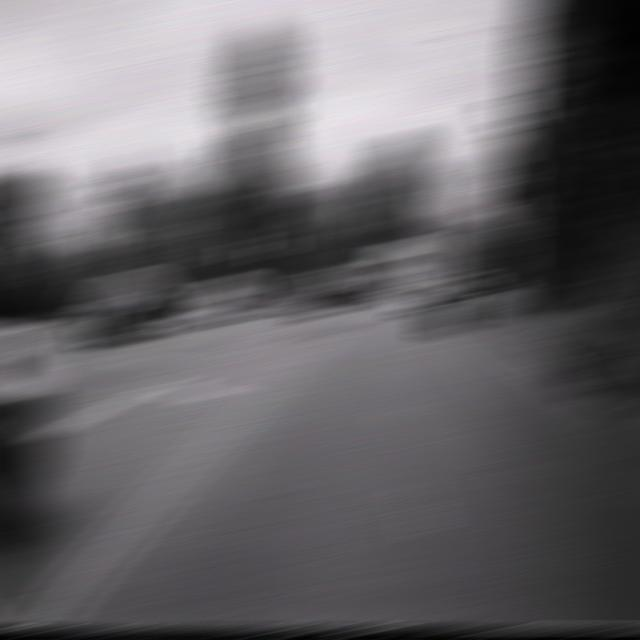pedestrianCrossing: (496, 200, 530, 222)
